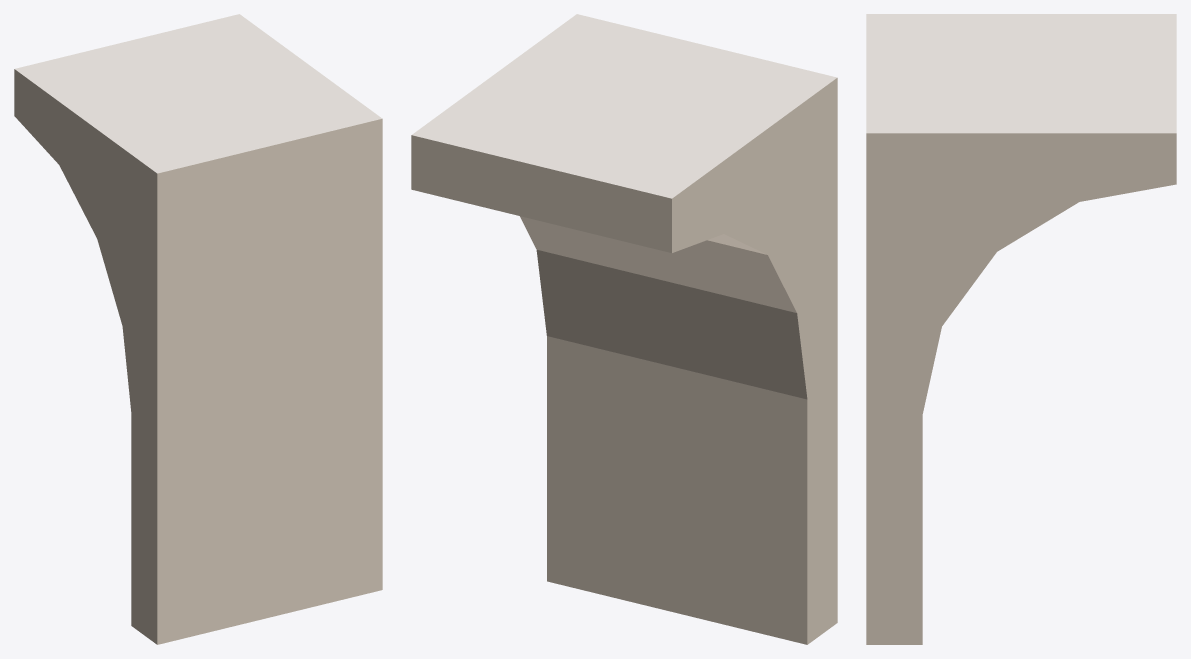
The model's file is temple_Wall_Arch_Straight.glb.
3 views of the same model, side by side, from view 1: azimuth 30°, elevation 25°; view 2: azimuth 150°, elevation 25°; view 3: azimuth 270°, elevation 25° (orthographic). The views are drawn at different scales.
Visible parts, largest first — view 1: object1; view 2: object1; view 3: object1.
Part boxes in pixels (x1,y1,x2,y2): object1: (14,14,382,644); object1: (411,14,837,644); object1: (866,14,1176,644).
Bounding box in the file's own units: 1 × 2 × 1.1.
